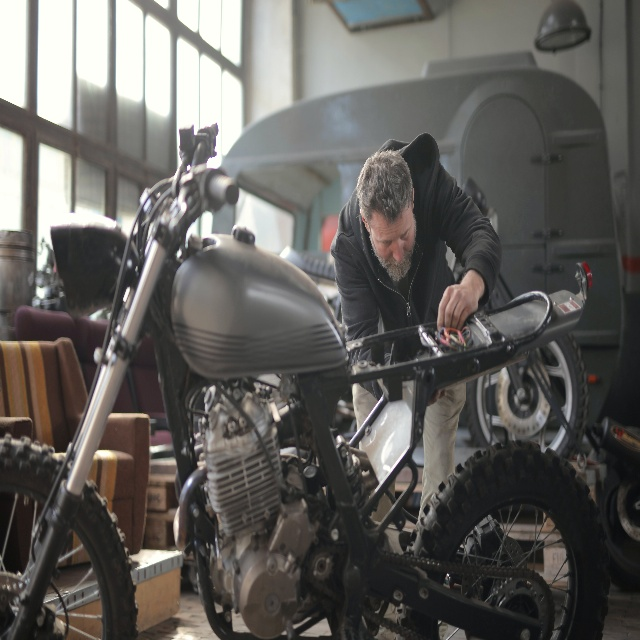Sin_guantes: (437, 281, 478, 334)
